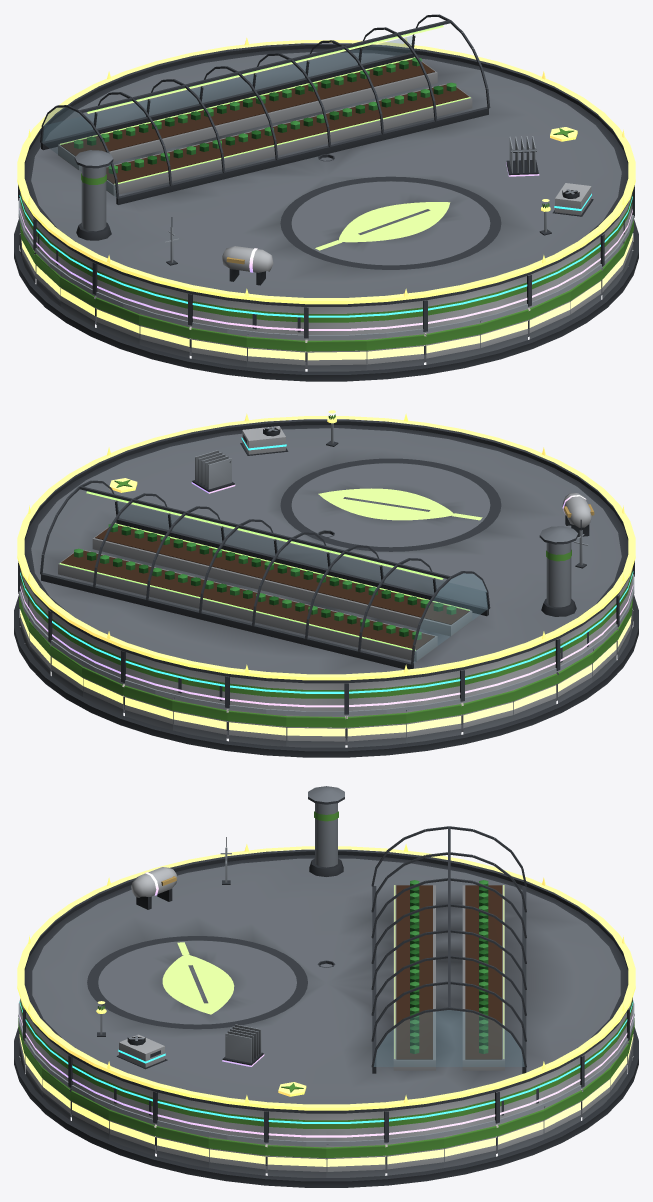
Rendered from kitchen_xl_far.glb.
3 views of the same model, one above another, from view 1: azimuth 30°, elevation 25°; view 2: azimuth 150°, elevation 25°; view 3: azimuth 270°, elevation 25° (orthographic).
Visible parts, largest first — view 1: Roof, Base, L5, L4, L2, L3; view 2: Roof, Base, L5, L4, L2, L3; view 3: Roof, Base, L5, L4, L2, L3.
Part boxes in pixels (<box>): Roof: <box>18,14,634,338</box>; Base: <box>14,219,638,381</box>; L5: <box>17,37,635,304</box>; L4: <box>19,136,632,330</box>; L2: <box>18,198,633,339</box>; L3: <box>19,154,632,317</box>; Roof: <box>18,419,634,714</box>; Base: <box>14,595,638,757</box>; L5: <box>17,410,635,680</box>; L4: <box>20,450,633,707</box>; L2: <box>19,519,634,715</box>; L3: <box>20,426,633,693</box>; Roof: <box>20,786,632,1142</box>; Base: <box>14,1014,638,1187</box>; L5: <box>17,844,635,1110</box>; L4: <box>19,867,633,1137</box>; L2: <box>18,837,634,1145</box>; L3: <box>19,960,633,1123</box>.
Bounding box in the file's own units: 21.95 × 5.94 × 21.95.
